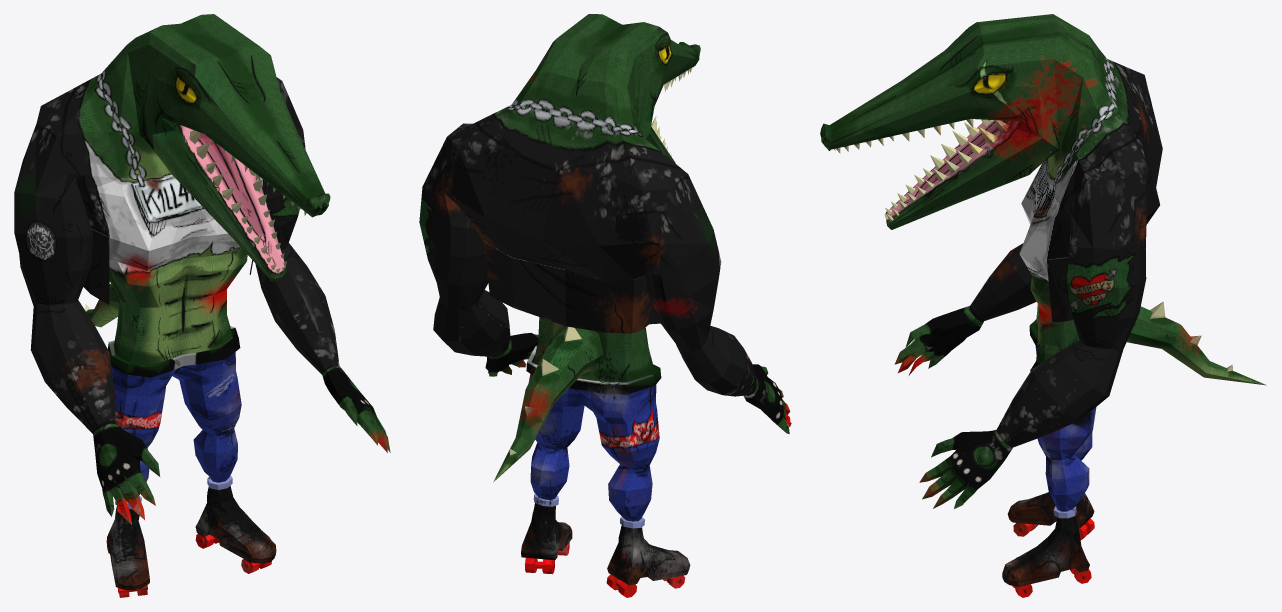
Rendered from cocodrilaBonesSelect_000032.obj.
The picture shows the model from 3 angles, left to right: view 1: azimuth 30°, elevation 25°; view 2: azimuth 150°, elevation 25°; view 3: azimuth 270°, elevation 25°; orthographic projection. The views are drawn at different scales.
Parts seen in each view (by area): view 1: Crocodile.002_Cylinder.002; view 2: Crocodile.002_Cylinder.002; view 3: Crocodile.002_Cylinder.002.
Part boxes in pixels (<box>): Crocodile.002_Cylinder.002: <box>14,14,390,597</box>; Crocodile.002_Cylinder.002: <box>419,14,791,597</box>; Crocodile.002_Cylinder.002: <box>820,14,1266,597</box>.
Size of the model in its own units: 3.86 by 6.72 by 5.07.
